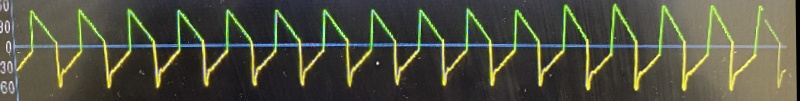peepi: (6, 0, 791, 94)
